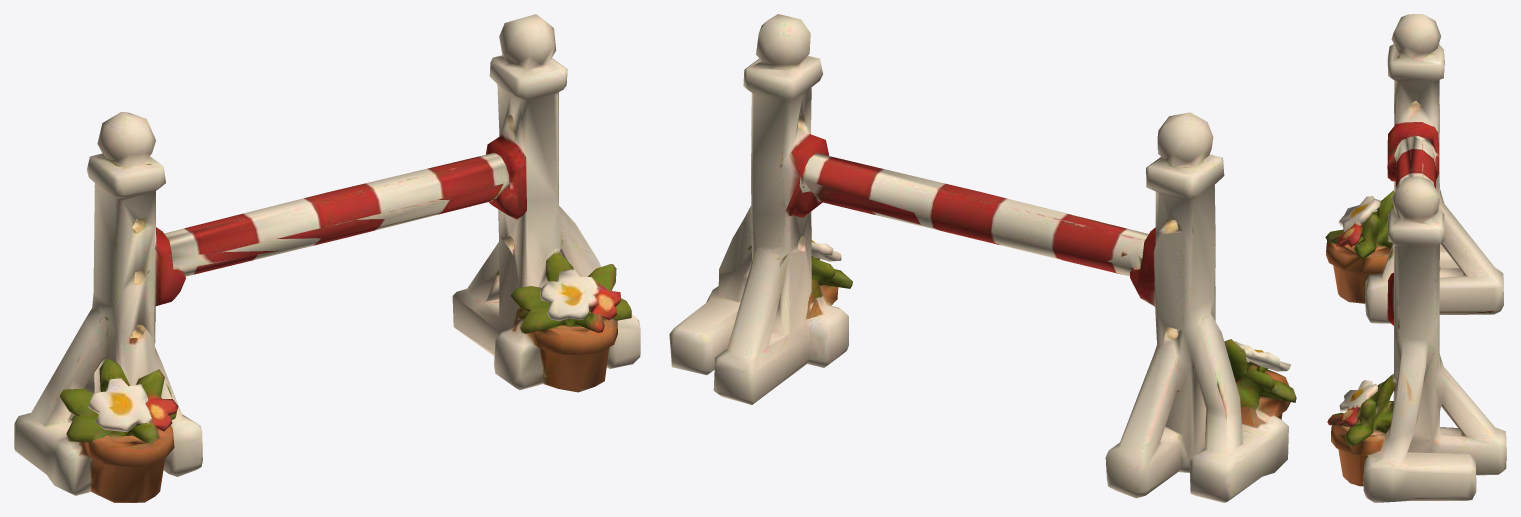
The picture shows the model from 3 angles, left to right: view 1: azimuth 30°, elevation 25°; view 2: azimuth 150°, elevation 25°; view 3: azimuth 270°, elevation 25°; orthographic projection. The views are drawn at different scales.
Parts seen in each view (by area): view 1: horse-jump; view 2: horse-jump; view 3: horse-jump.
Part boxes in pixels (bbox=[...]): horse-jump: bbox=[14, 14, 640, 502]; horse-jump: bbox=[669, 14, 1296, 502]; horse-jump: bbox=[1325, 14, 1506, 502].
Size of the model in its own units: 2 by 1.16 by 0.6561.
Materials: 1 (1 with a texture image).
